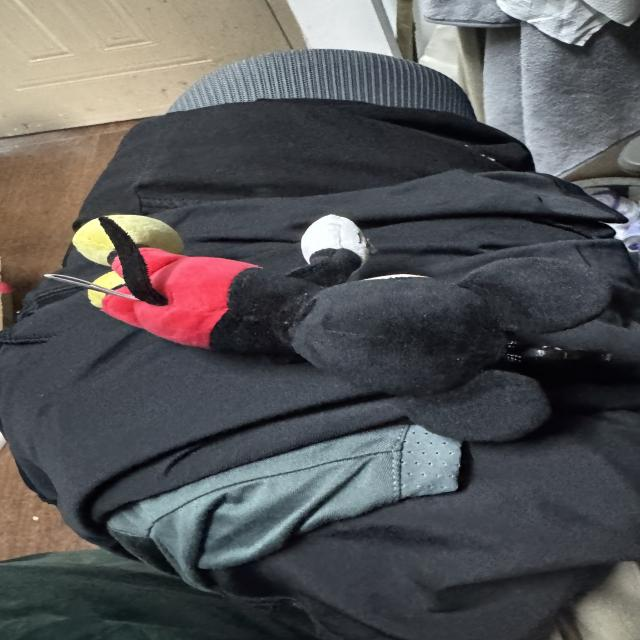mickey: (74, 216, 611, 439)
